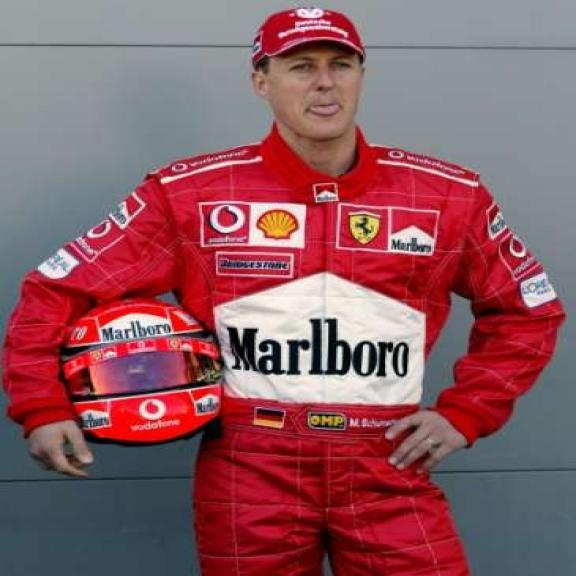face: (252, 43, 371, 152)
